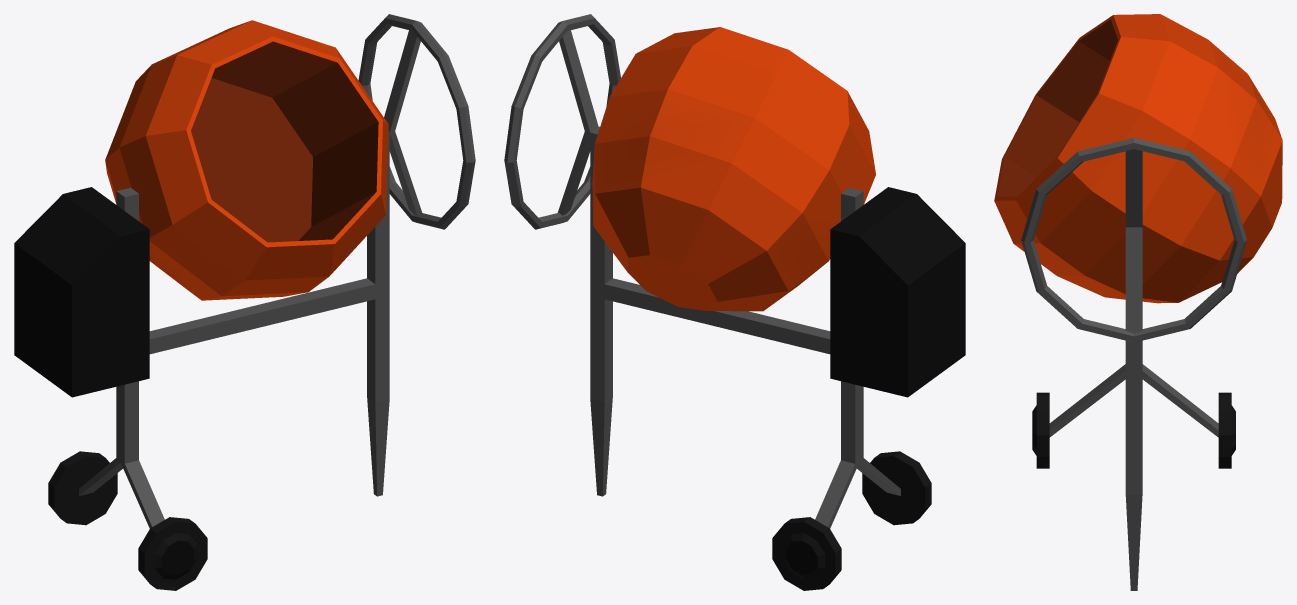
Rendered from SM_concratemixer.FBX.
The picture shows the model from 3 angles, left to right: view 1: azimuth 30°, elevation 25°; view 2: azimuth 150°, elevation 25°; view 3: azimuth 270°, elevation 25°; orthographic projection.
Parts seen in each view (by area): view 1: concratemixer; view 2: concratemixer; view 3: concratemixer.
Boxes of the visible parts, x1,y1,x2,y2 form: concratemixer: (14,14,475,590); concratemixer: (504,14,965,590); concratemixer: (994,14,1282,590).
Bounding box in the file's own units: 132 × 163 × 85.85.
